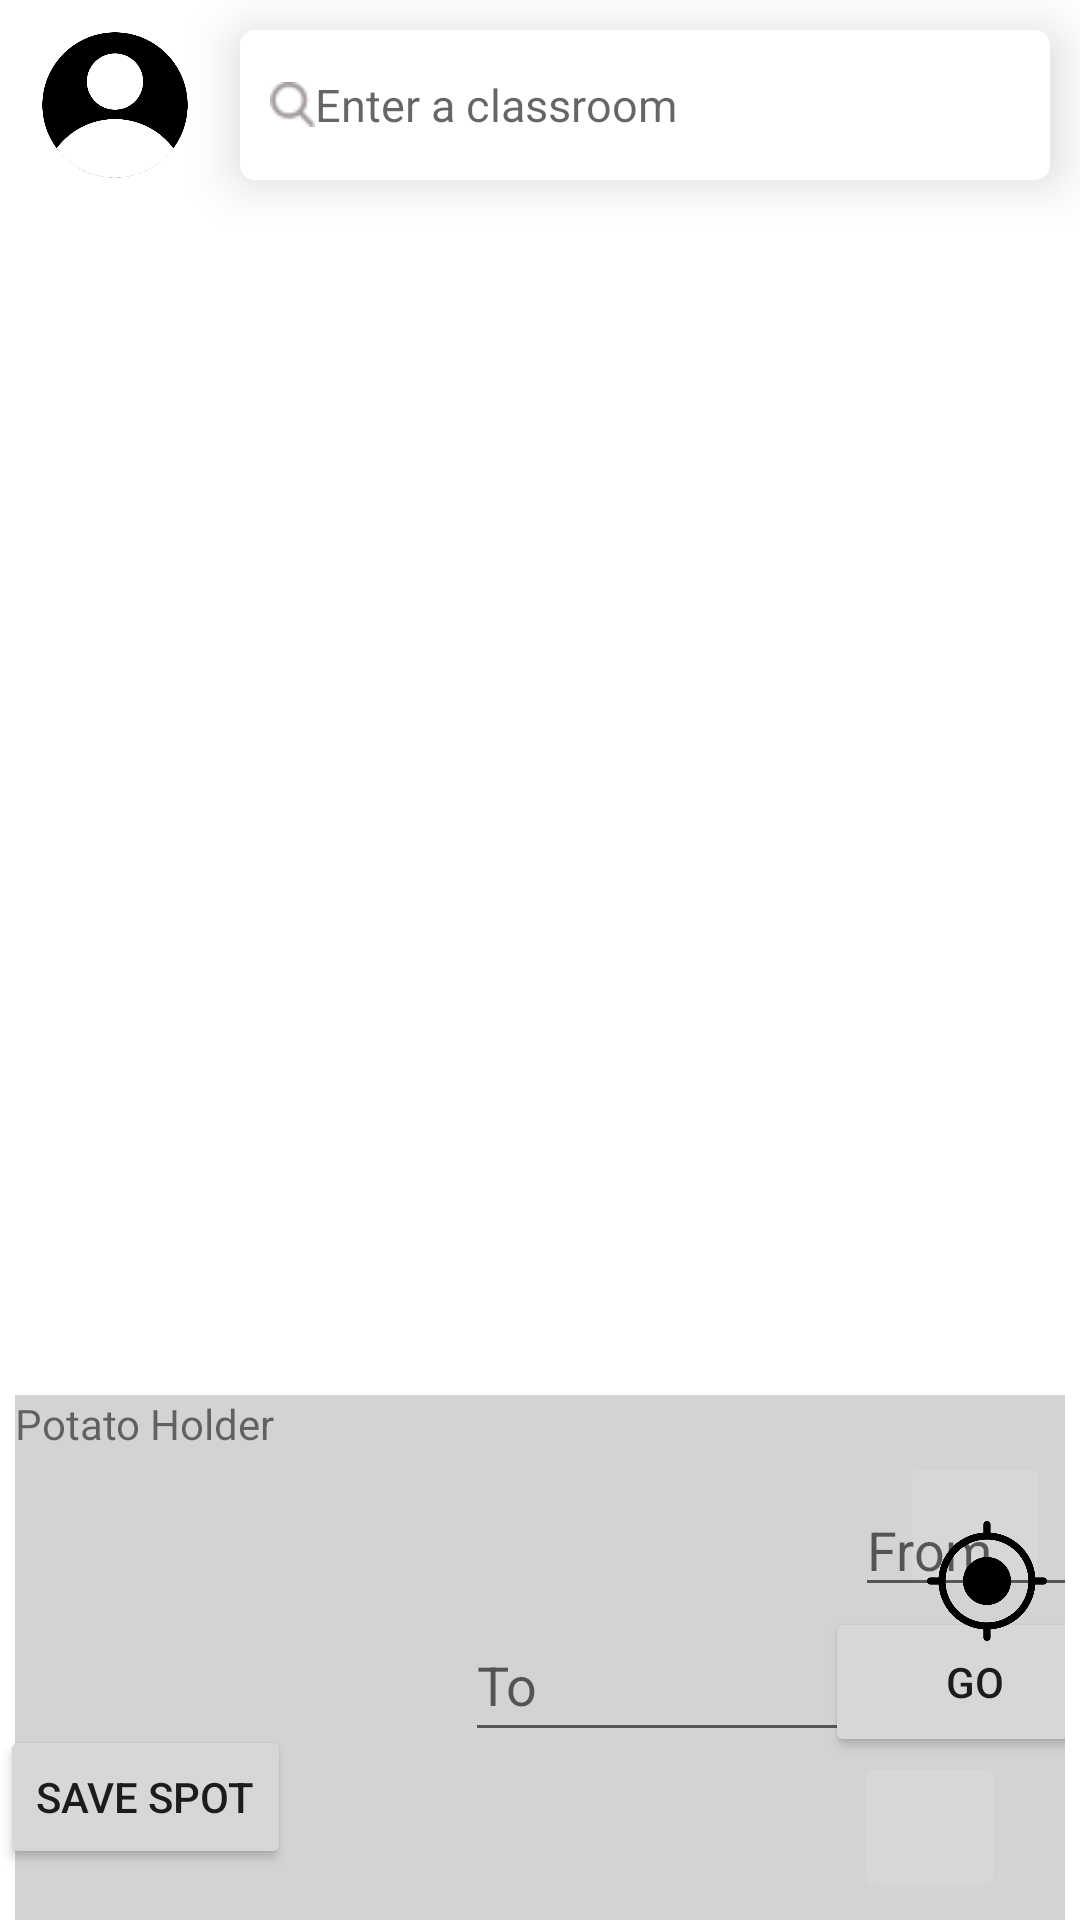

Icons on this 1080*1920 Android screen, each with the point to tap as [x,y]:
search: [292,104]
user: [115,105]
